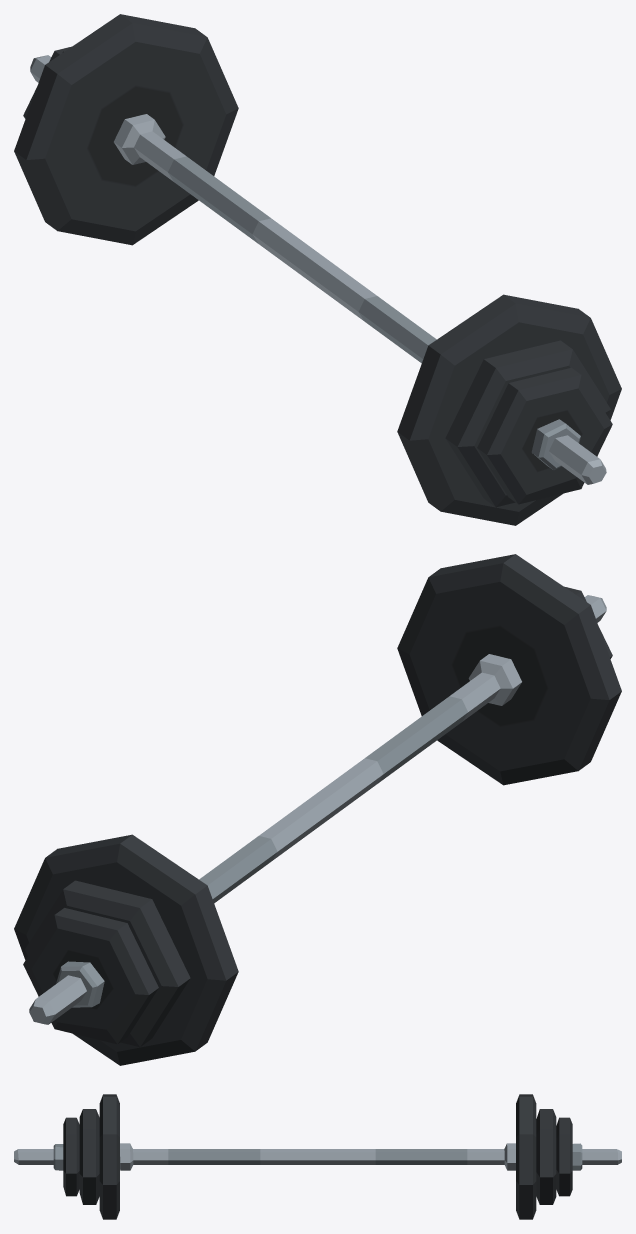
The model's file is SM_Prop_Bar_Bell_02.glb.
3 renders of one model, top to bottom at view 1: azimuth 30°, elevation 25°; view 2: azimuth 150°, elevation 25°; view 3: azimuth 270°, elevation 25°, orthographic. The views are drawn at different scales.
Visible parts, largest first — view 1: SM_Prop_Bar_Bell_02; view 2: SM_Prop_Bar_Bell_02; view 3: SM_Prop_Bar_Bell_02.
Part boxes in pixels (left/top/right/bottom): SM_Prop_Bar_Bell_02: left=14, top=14, right=621, bottom=525; SM_Prop_Bar_Bell_02: left=14, top=554, right=621, bottom=1065; SM_Prop_Bar_Bell_02: left=14, top=1094, right=621, bottom=1219.
Size of the model in its own units: 0.4046 by 0.4046 by 1.85.
Materials: 1 (1 with a texture image).
